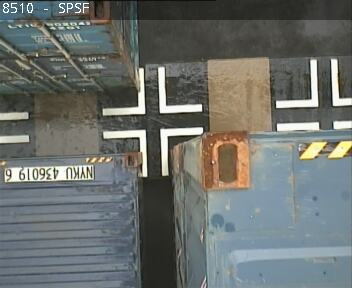groundmarker_1: (100, 66, 203, 115), (101, 127, 203, 176), (274, 59, 352, 109)
